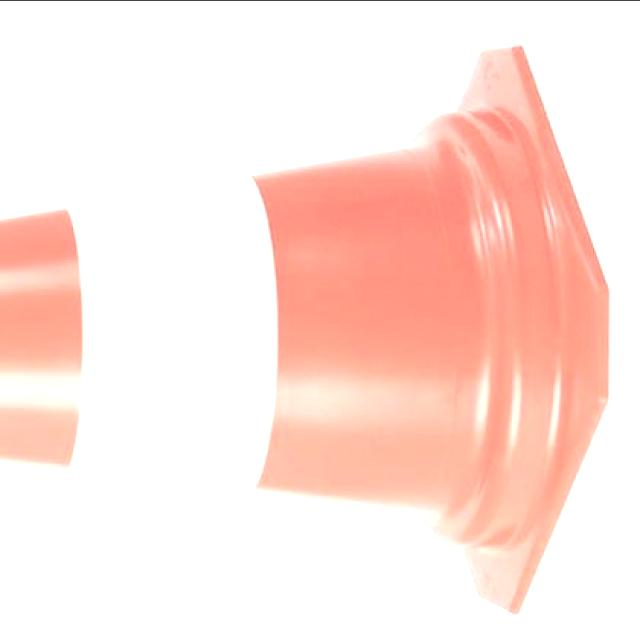cone: (1, 90, 608, 570)
